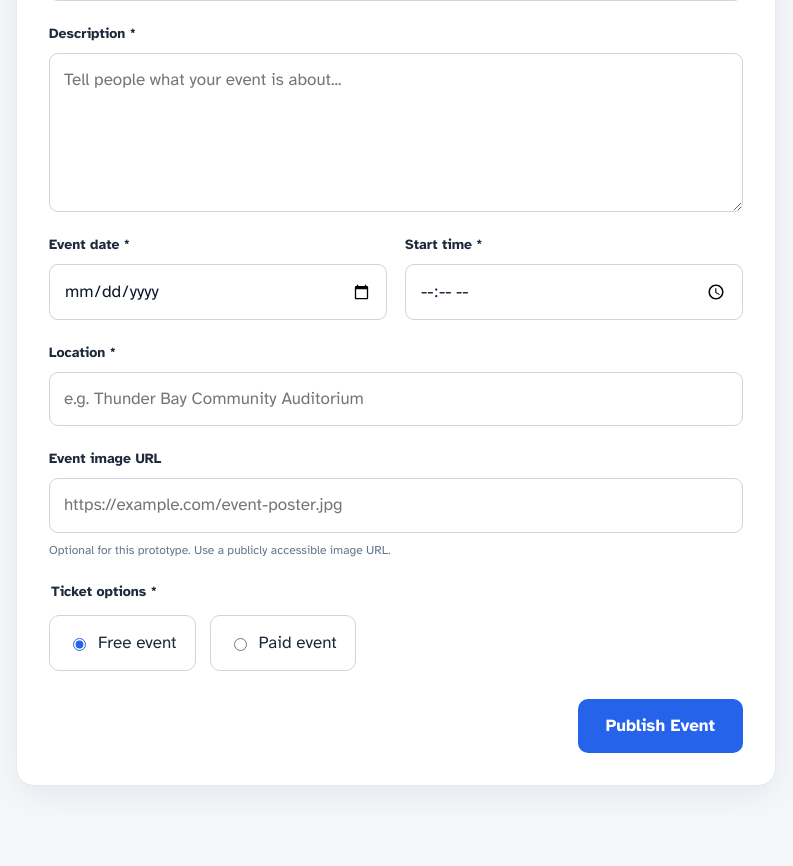
Create Event form › shows validation errors on empty submission
The width and height of the screenshot is (793, 866).
(page scrolled)
Click the button "Publish Event": (660, 726) [578, 699, 743, 753]
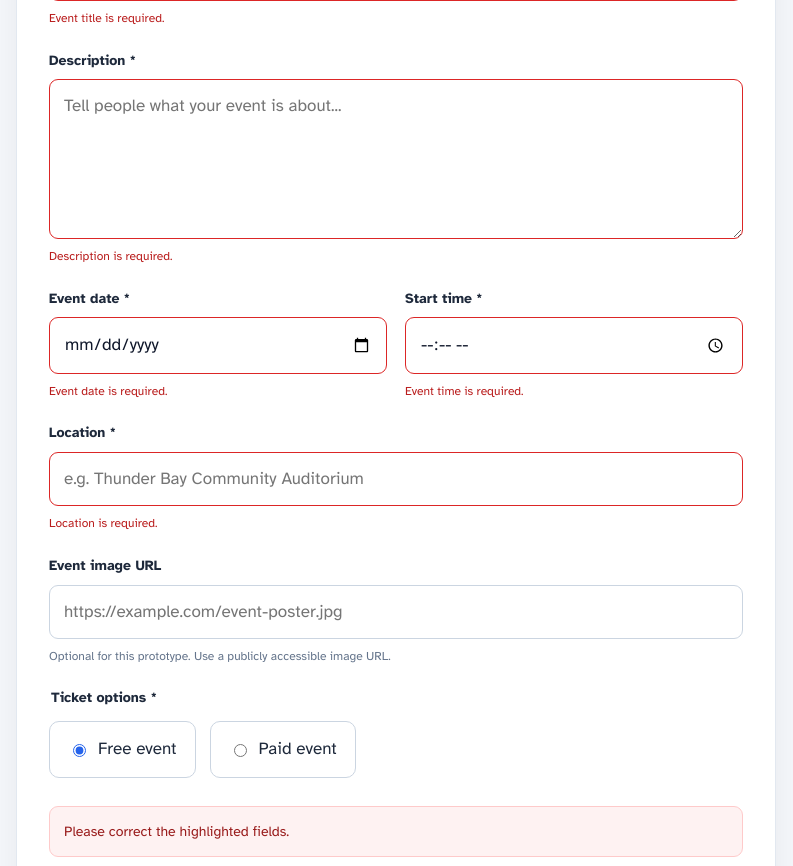
Now the text "Event title is required." is shown, box [49, 11, 164, 25]
